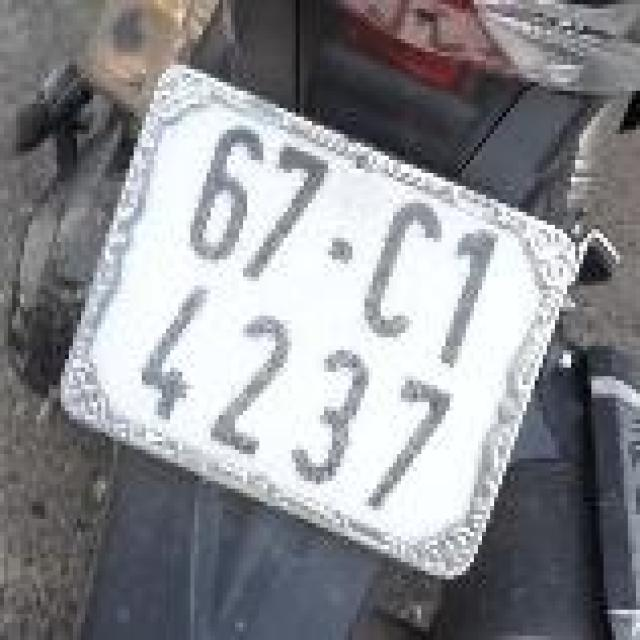1: (419, 218, 532, 384)
2: (194, 301, 328, 468)
3: (274, 321, 394, 501)
4: (125, 272, 242, 438)
6: (174, 119, 275, 276)
7: (346, 364, 471, 526), (228, 135, 346, 294)
C: (346, 187, 468, 353)
